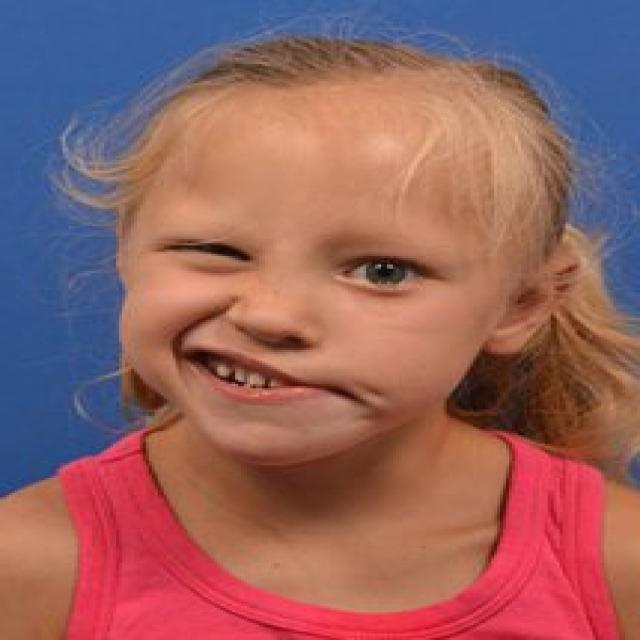stroke_face: (79, 94, 533, 468)
